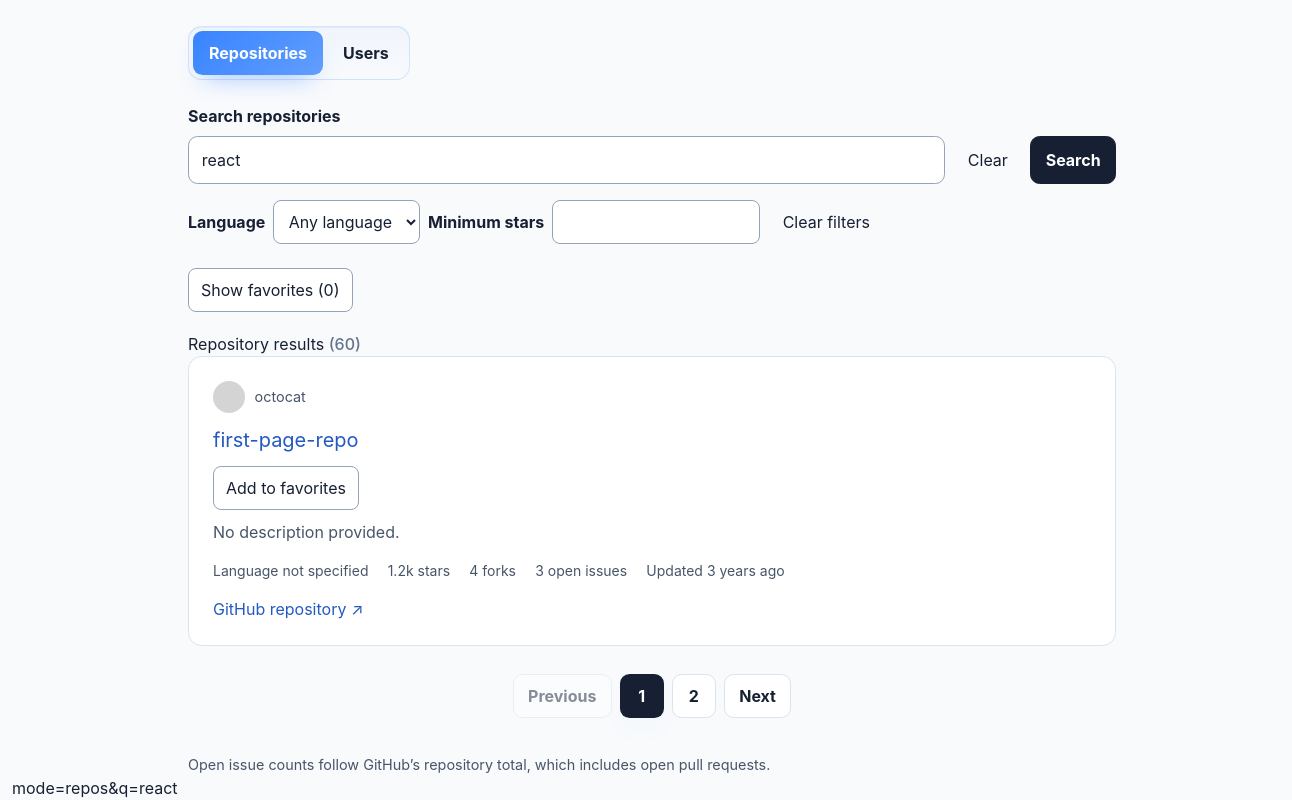
it: repository search page › updates pagination in the URL and loads the next page
The image size is (1292, 800).
(page scrolled)
Check: the link "first-page-repo" is shown, box [213, 428, 359, 452]
Click the button "Next" at (758, 696), box [724, 674, 791, 718]
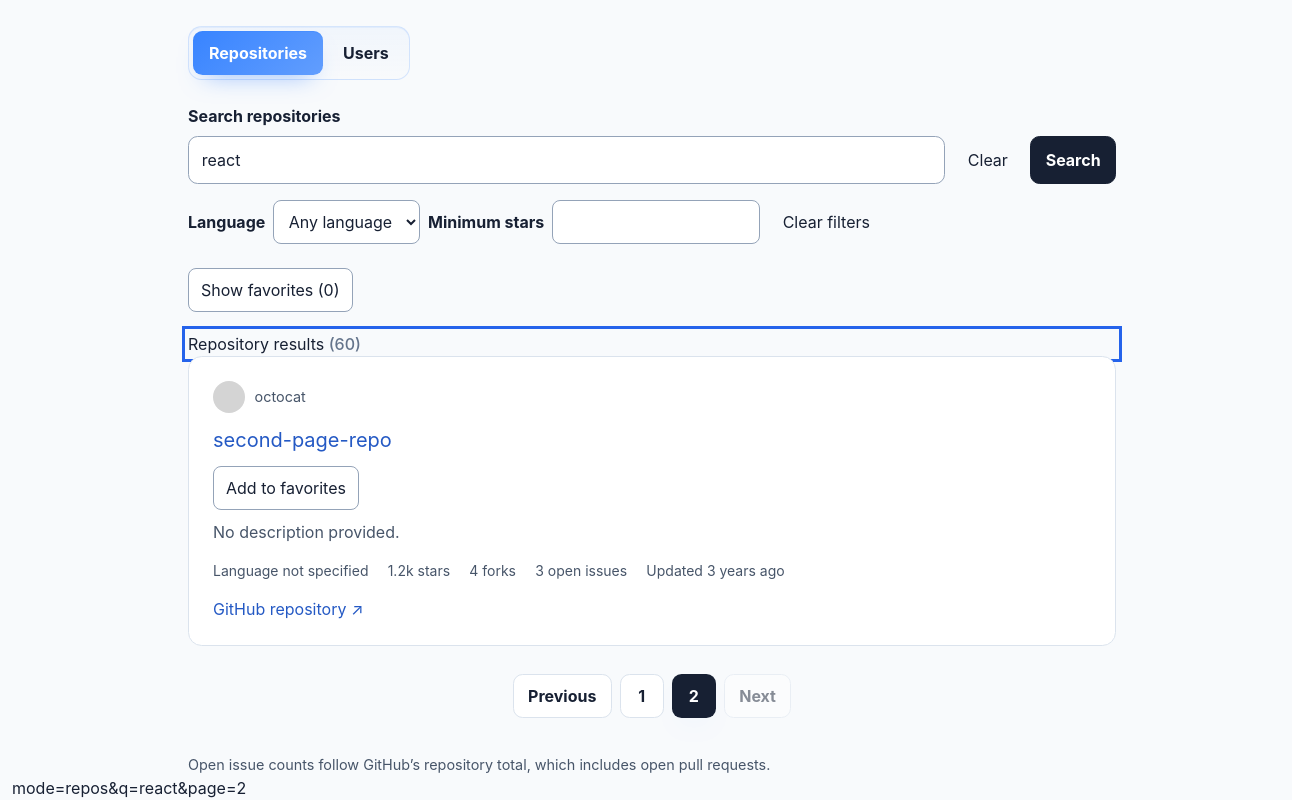
Check: the link "second-page-repo" is shown, box [213, 428, 392, 452]
Check: the text named "Current search URL" shows "page=2", box [12, 778, 246, 798]
